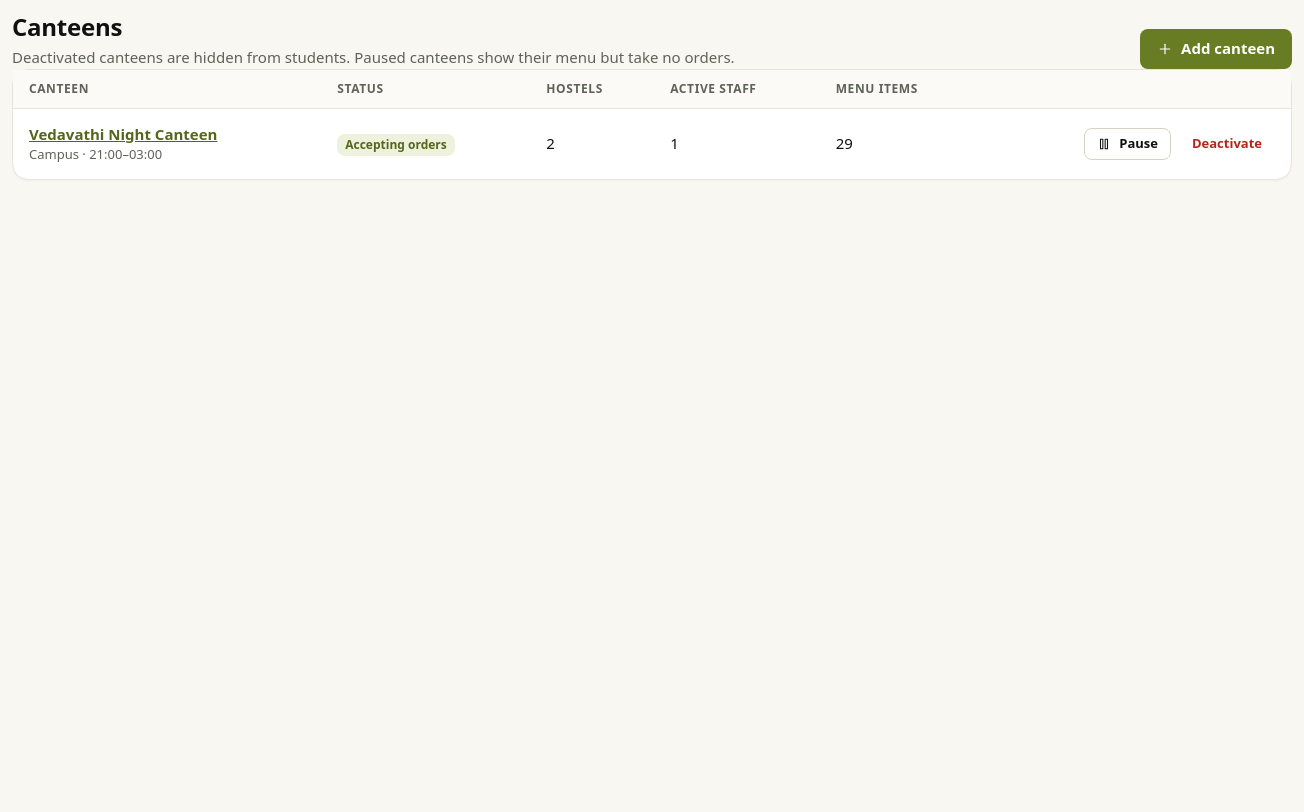
canteens › pauses order-taking
Click the button "Pause" at [1128, 144], box [1084,128,1171,160]
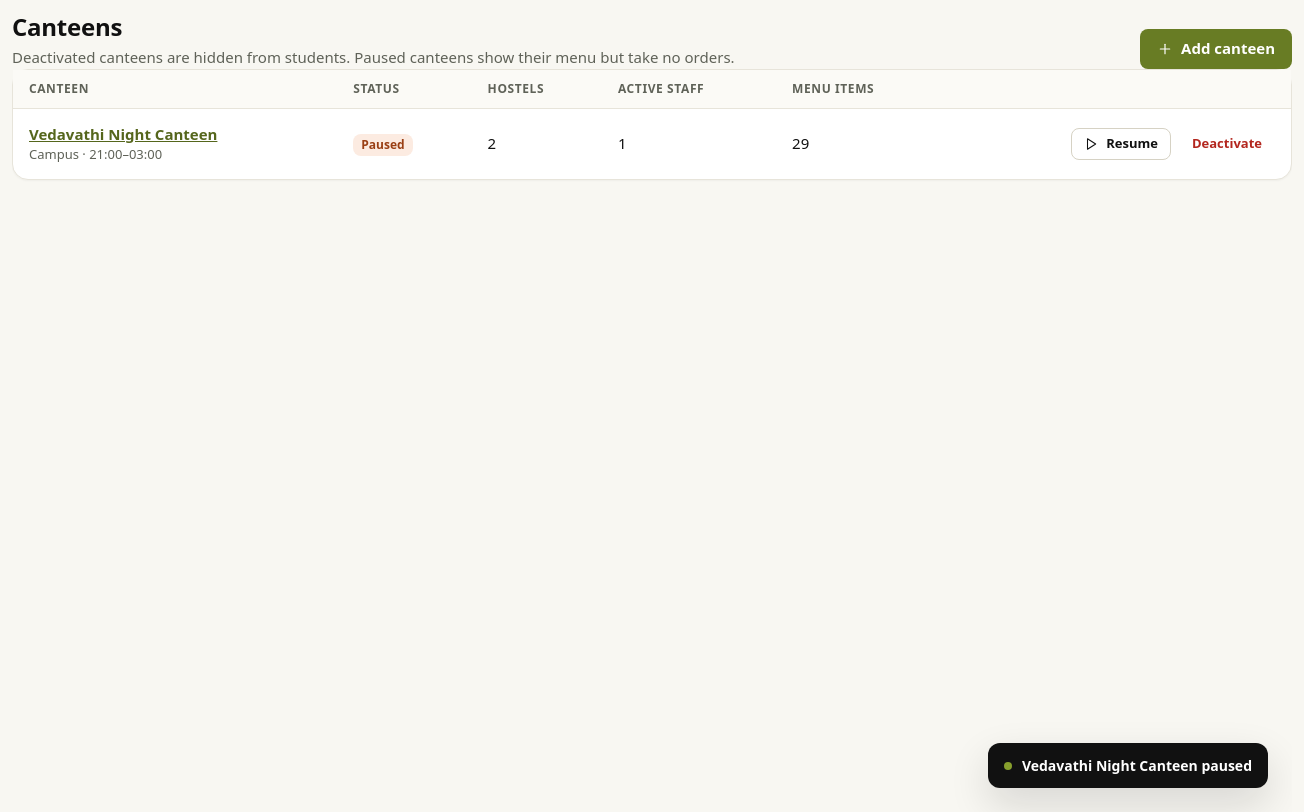
Now the button "Resume" is shown, box [1071,128,1171,160]
